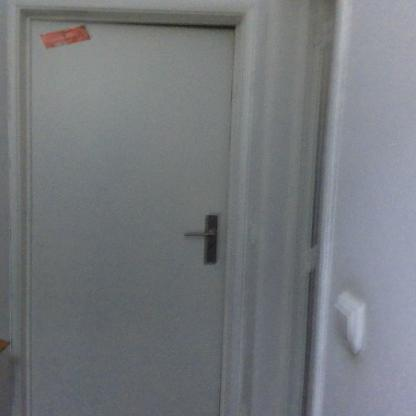door: (28, 17, 228, 416)
lever: (182, 232, 220, 240)
